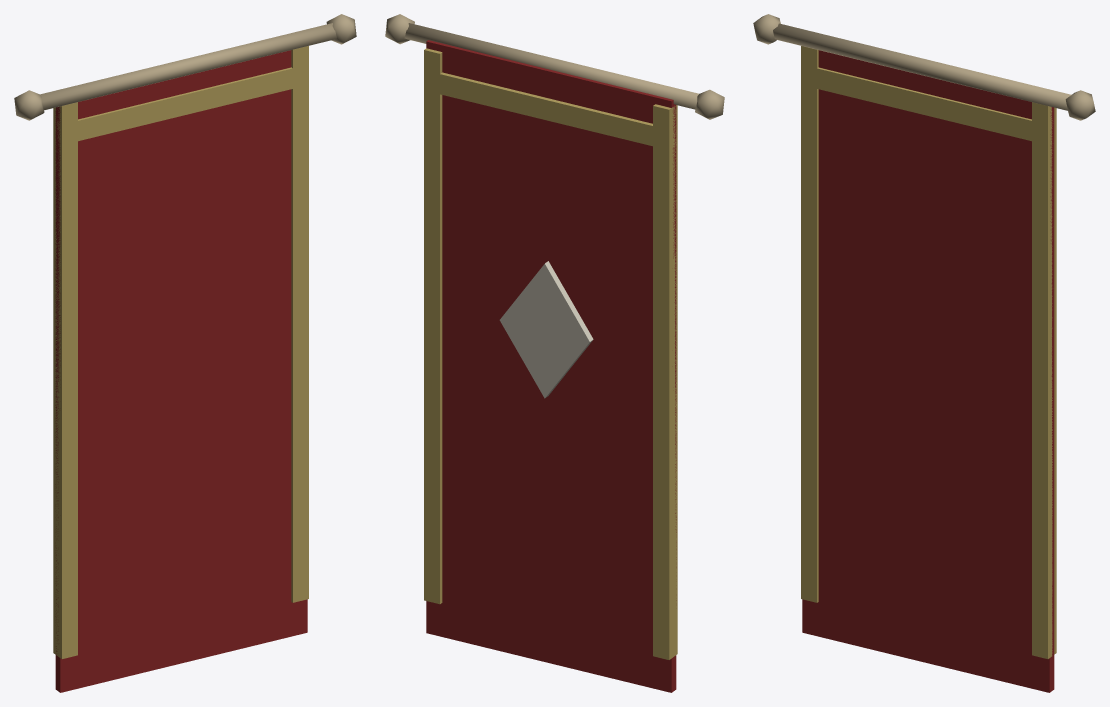
The model's file is herpling_banner_v0.glb.
The picture shows the model from 3 angles, left to right: view 1: azimuth 30°, elevation 25°; view 2: azimuth 150°, elevation 25°; view 3: azimuth 330°, elevation 25°; orthographic projection.
Visible parts, largest first — view 1: herpling_banner_v0; view 2: herpling_banner_v0; view 3: herpling_banner_v0.
Part boxes in pixels (left/top/right/bottom): herpling_banner_v0: left=14, top=14, right=356, bottom=692; herpling_banner_v0: left=385, top=14, right=724, bottom=692; herpling_banner_v0: left=753, top=14, right=1095, bottom=692.
Size of the model in its own units: 1.04 by 1.8 by 0.0933.
